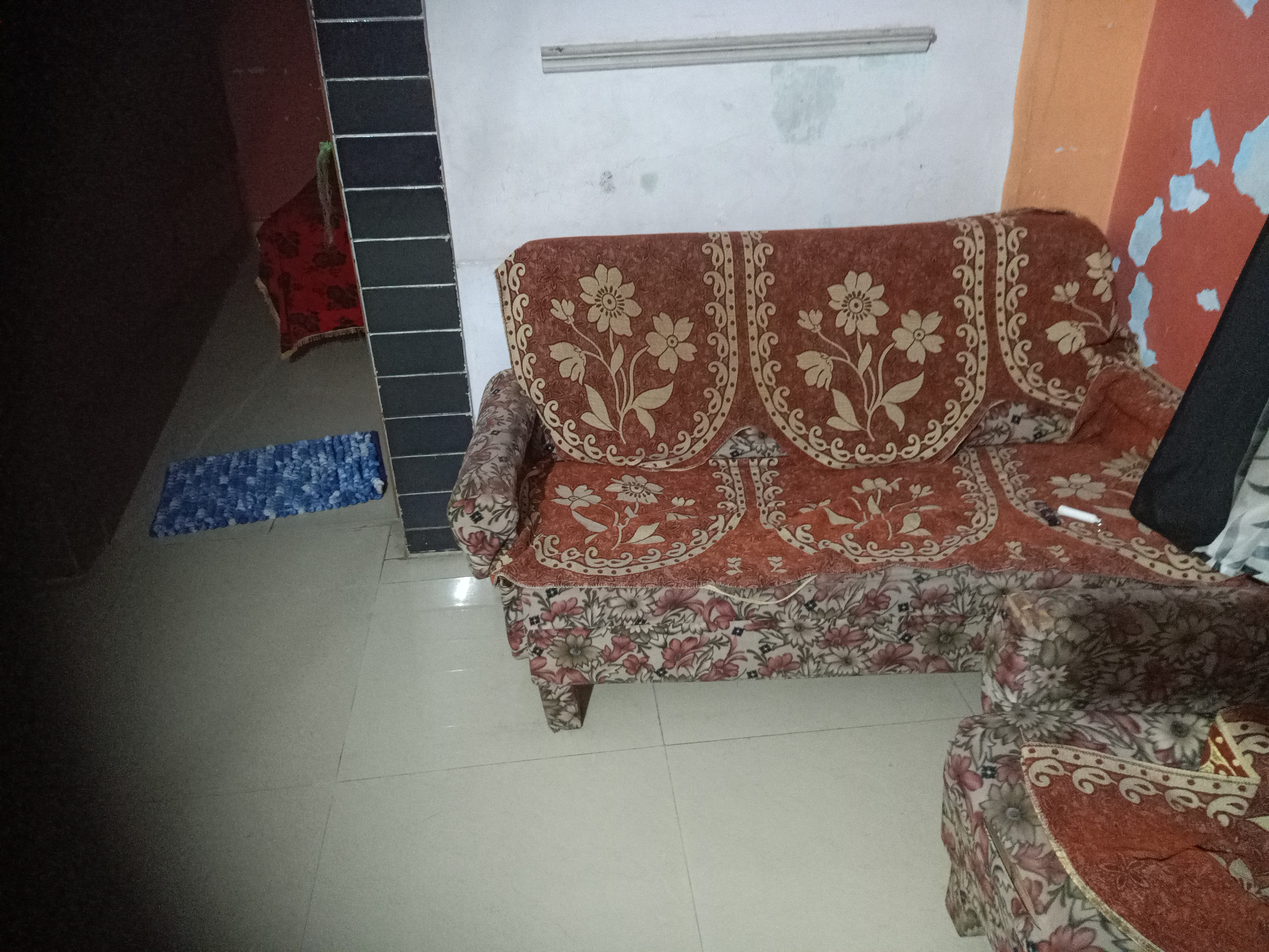sofa: (440, 210, 1269, 730), (944, 581, 1269, 952)
